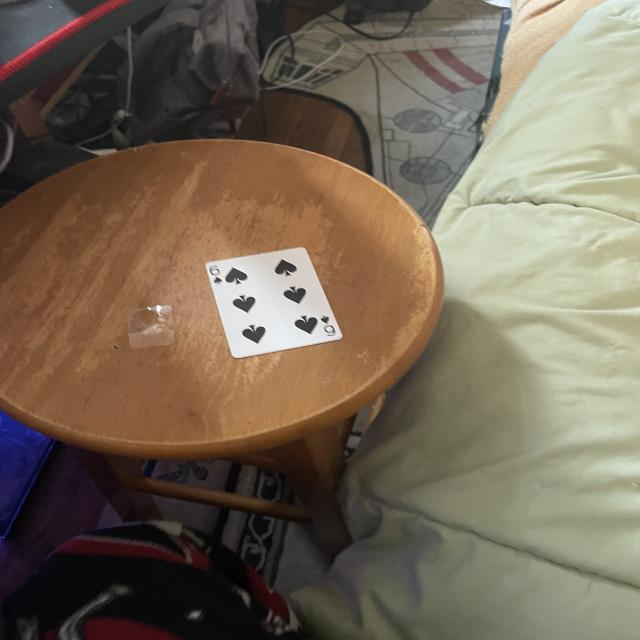6 of spades: (207, 243, 348, 362)
